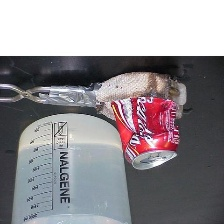can: (109, 92, 183, 172)
